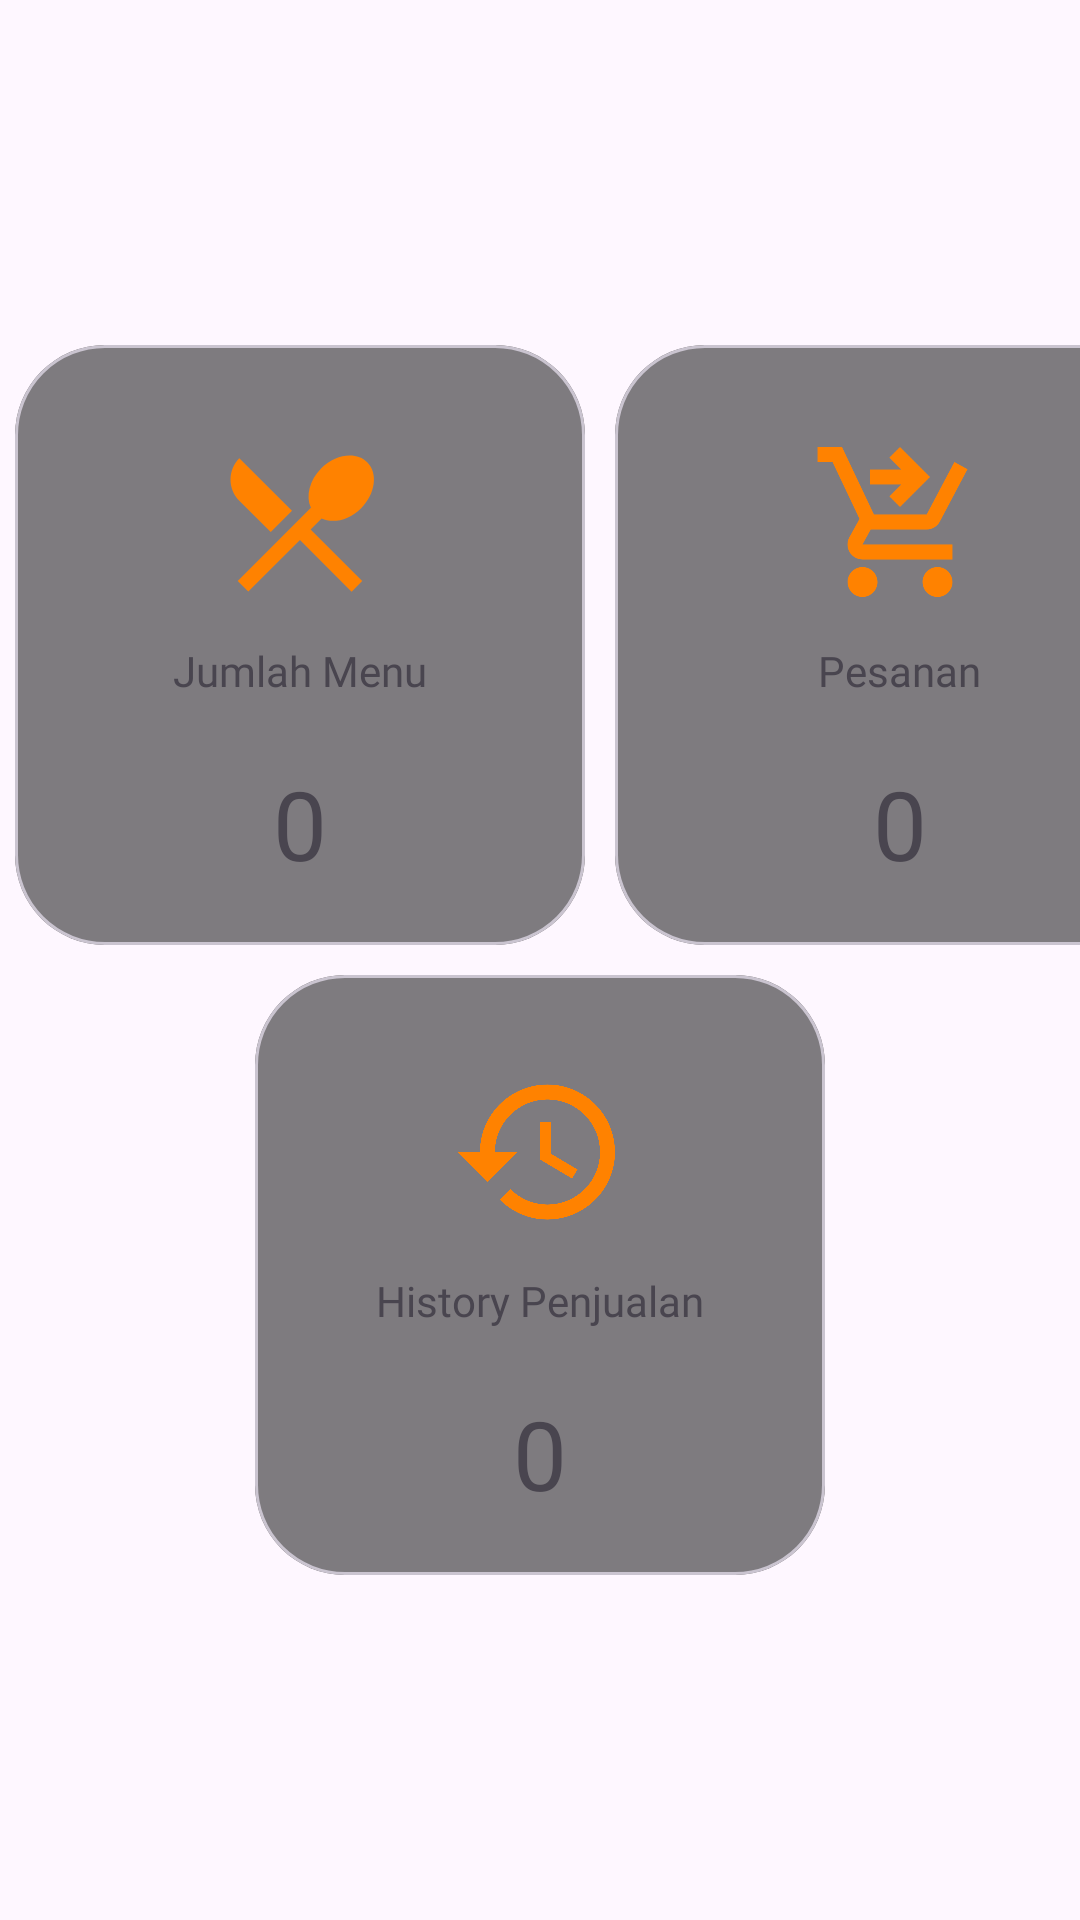

Screen size 1080 × 1920. Icon name, then its box in pixels as detection(x1, y1, x2, y2):
restaurant menu: detection(230, 455, 374, 592)
shopping cart checkout: detection(817, 447, 968, 597)
